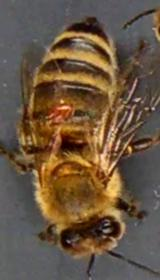varroa_mite: (48, 100, 80, 130)
